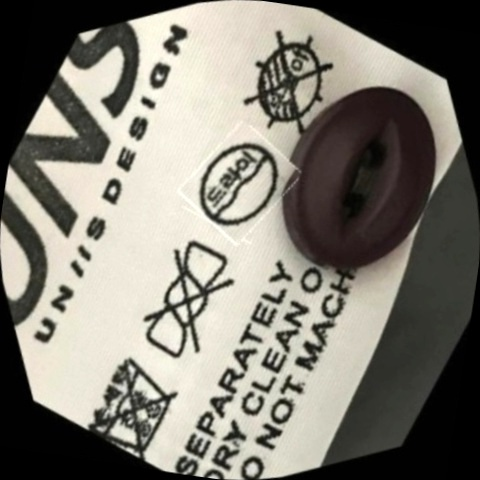DN_dry: (215, 9, 363, 158)
DN_wring: (105, 219, 272, 386)
dry_clean: (173, 116, 308, 253)
hand_wash: (62, 327, 205, 475)
